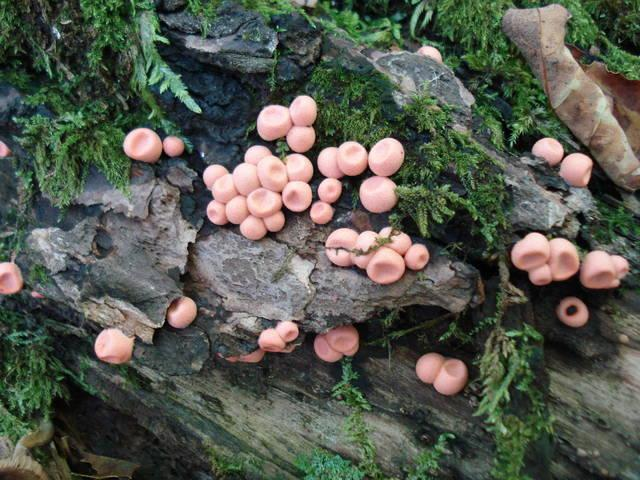Non-edible Mushroom: (201, 93, 430, 284), (504, 219, 627, 292), (256, 307, 367, 359), (529, 129, 591, 180), (414, 345, 464, 395), (93, 326, 134, 364), (121, 126, 162, 163), (0, 244, 27, 299), (165, 295, 197, 329), (555, 295, 589, 327), (162, 134, 184, 157)
